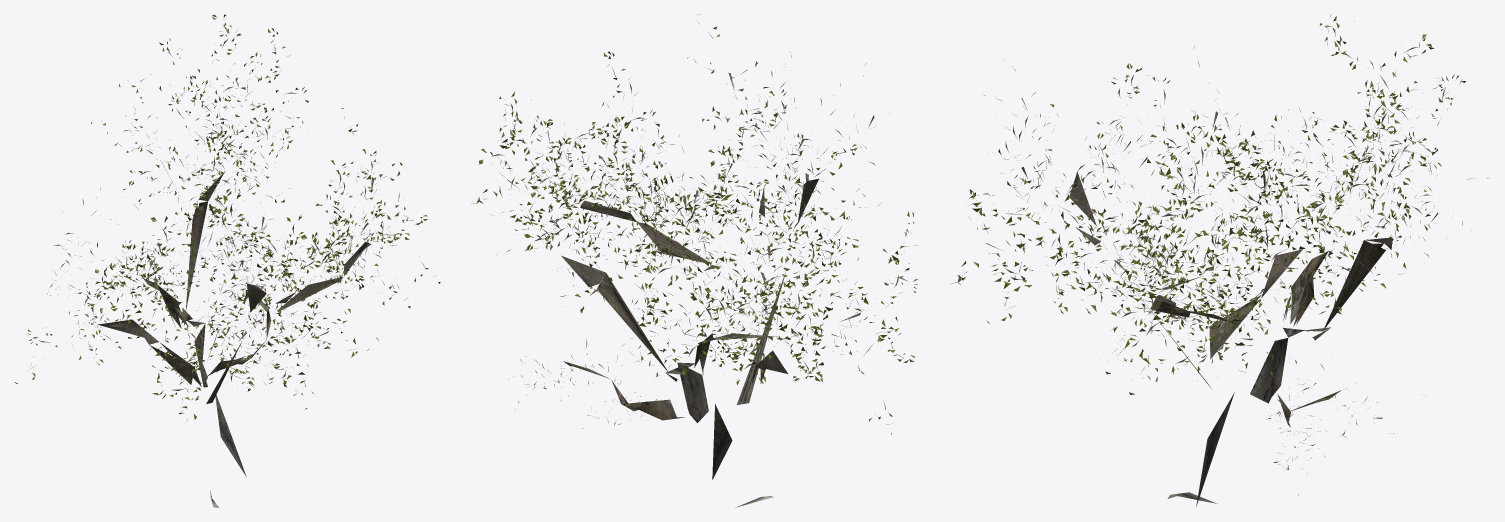
File: island_tree_01_lod2.gltf
3 views of the same model, side by side, from view 1: azimuth 30°, elevation 25°; view 2: azimuth 150°, elevation 25°; view 3: azimuth 270°, elevation 25° (orthographic). The views are drawn at different scales.
Visible parts, largest first — view 1: island_tree_01_lod2; view 2: island_tree_01_lod2; view 3: island_tree_01_lod2.
Boxes of the visible parts, x1,y1,x2,y2 form: island_tree_01_lod2: (15, 14, 440, 507); island_tree_01_lod2: (471, 14, 917, 507); island_tree_01_lod2: (951, 15, 1488, 506).
Size of the model in its own units: 4.61 by 4.97 by 4.6.
Materials: 3 (3 with a texture image).
